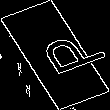P_SW: (14, 28, 96, 82)
